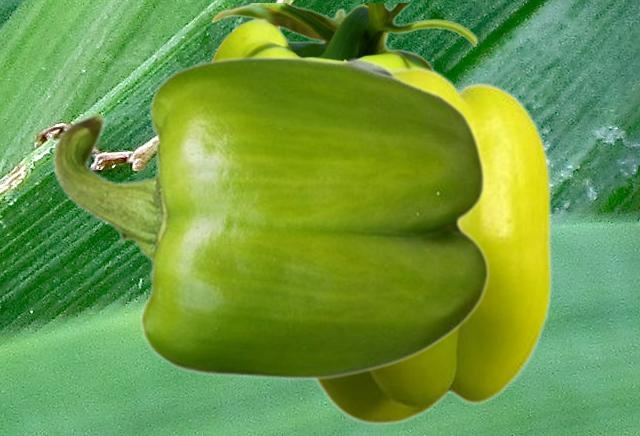bell_pepper: (52, 55, 489, 380), (313, 65, 551, 424), (210, 3, 477, 69)
